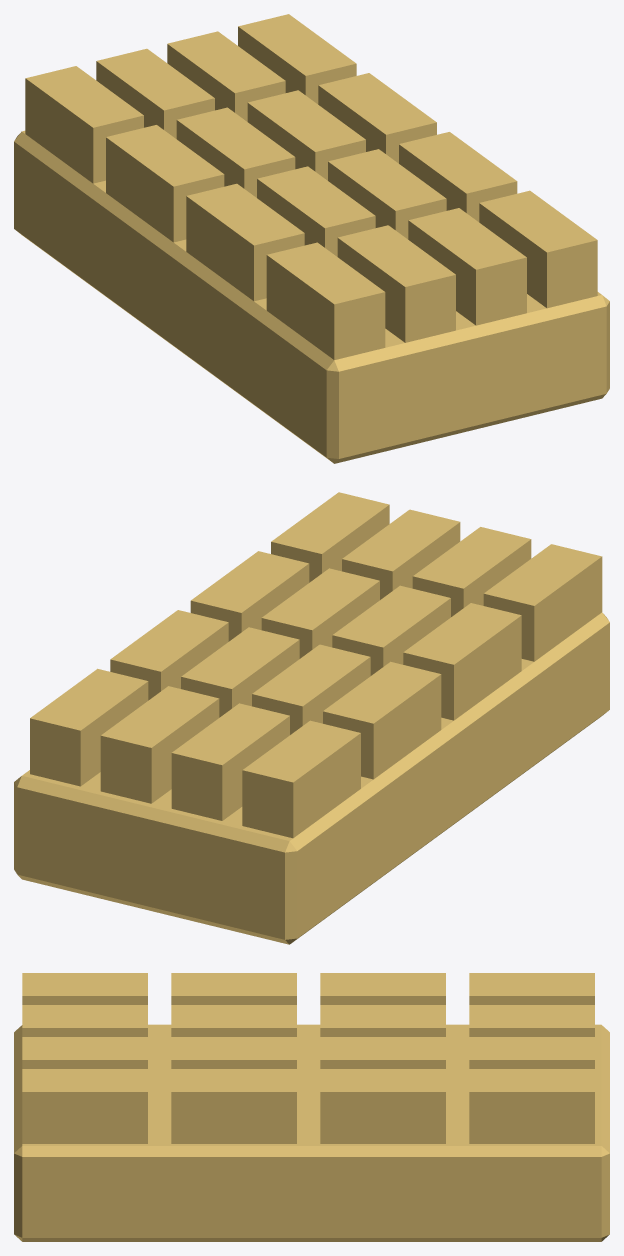
Rendered from ARCH-FOOD-FRY-LOAD.glb.
The picture shows the model from 3 angles, top to bottom: view 1: azimuth 30°, elevation 25°; view 2: azimuth 150°, elevation 25°; view 3: azimuth 270°, elevation 25°; orthographic projection. The views are drawn at different scales.
Parts seen in each view (by area): view 1: asset_arch_food_fry_load; view 2: asset_arch_food_fry_load; view 3: asset_arch_food_fry_load.
Boxes of the visible parts, bbox=[...] form: asset_arch_food_fry_load: bbox=[14, 14, 609, 463]; asset_arch_food_fry_load: bbox=[14, 492, 609, 944]; asset_arch_food_fry_load: bbox=[14, 973, 609, 1241].
Bounding box in the file's own units: 0.145 × 0.078 × 0.285.
